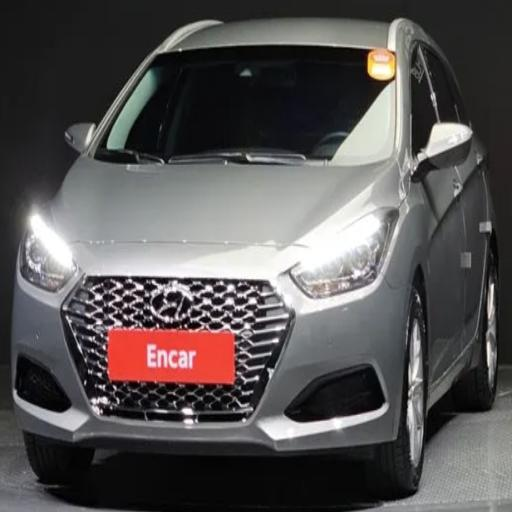normal: (15, 23, 506, 488)
